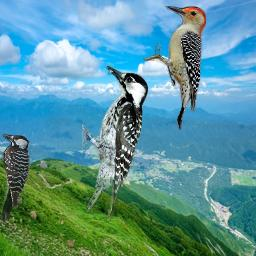Woodpecker: (82, 64, 148, 214), (143, 6, 206, 130), (0, 132, 31, 222)
